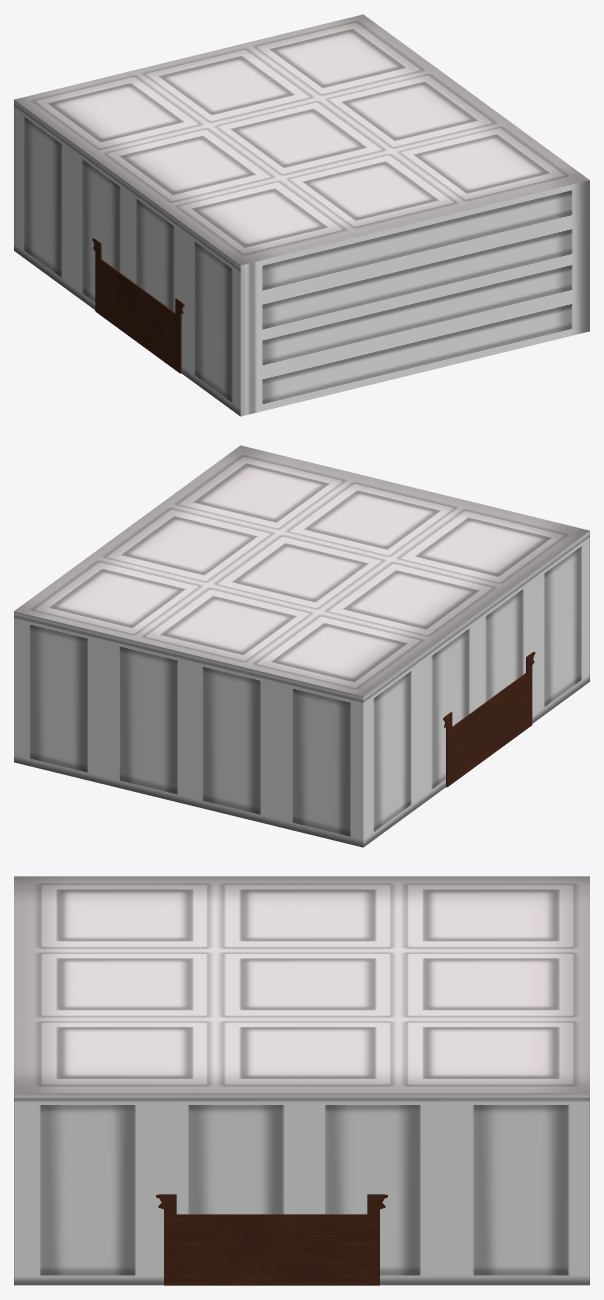
The model's file is Court_T.obj.
3 views of the same model, one above another, from view 1: azimuth 30°, elevation 25°; view 2: azimuth 150°, elevation 25°; view 3: azimuth 270°, elevation 25° (orthographic). The views are drawn at different scales.
Parts seen in each view (by area): view 1: pCube1, polySurface1_pCube28, pCube8; view 2: pCube1, polySurface1_pCube28, pCube8; view 3: polySurface1_pCube28, pCube1, pCube7.
Part boxes in pixels (<box>): pCube1: <box>14,100,589,416</box>; polySurface1_pCube28: <box>14,14,589,265</box>; pCube8: <box>92,238,184,373</box>; pCube1: <box>14,531,589,847</box>; polySurface1_pCube28: <box>14,445,589,696</box>; pCube8: <box>443,652,535,787</box>; polySurface1_pCube28: <box>14,876,589,1092</box>; pCube1: <box>14,1093,589,1285</box>; pCube7: <box>156,1194,387,1285</box>.
Bounding box in the file's own units: 92.38 × 38.7 × 103.
12 materials, 12 textured.
